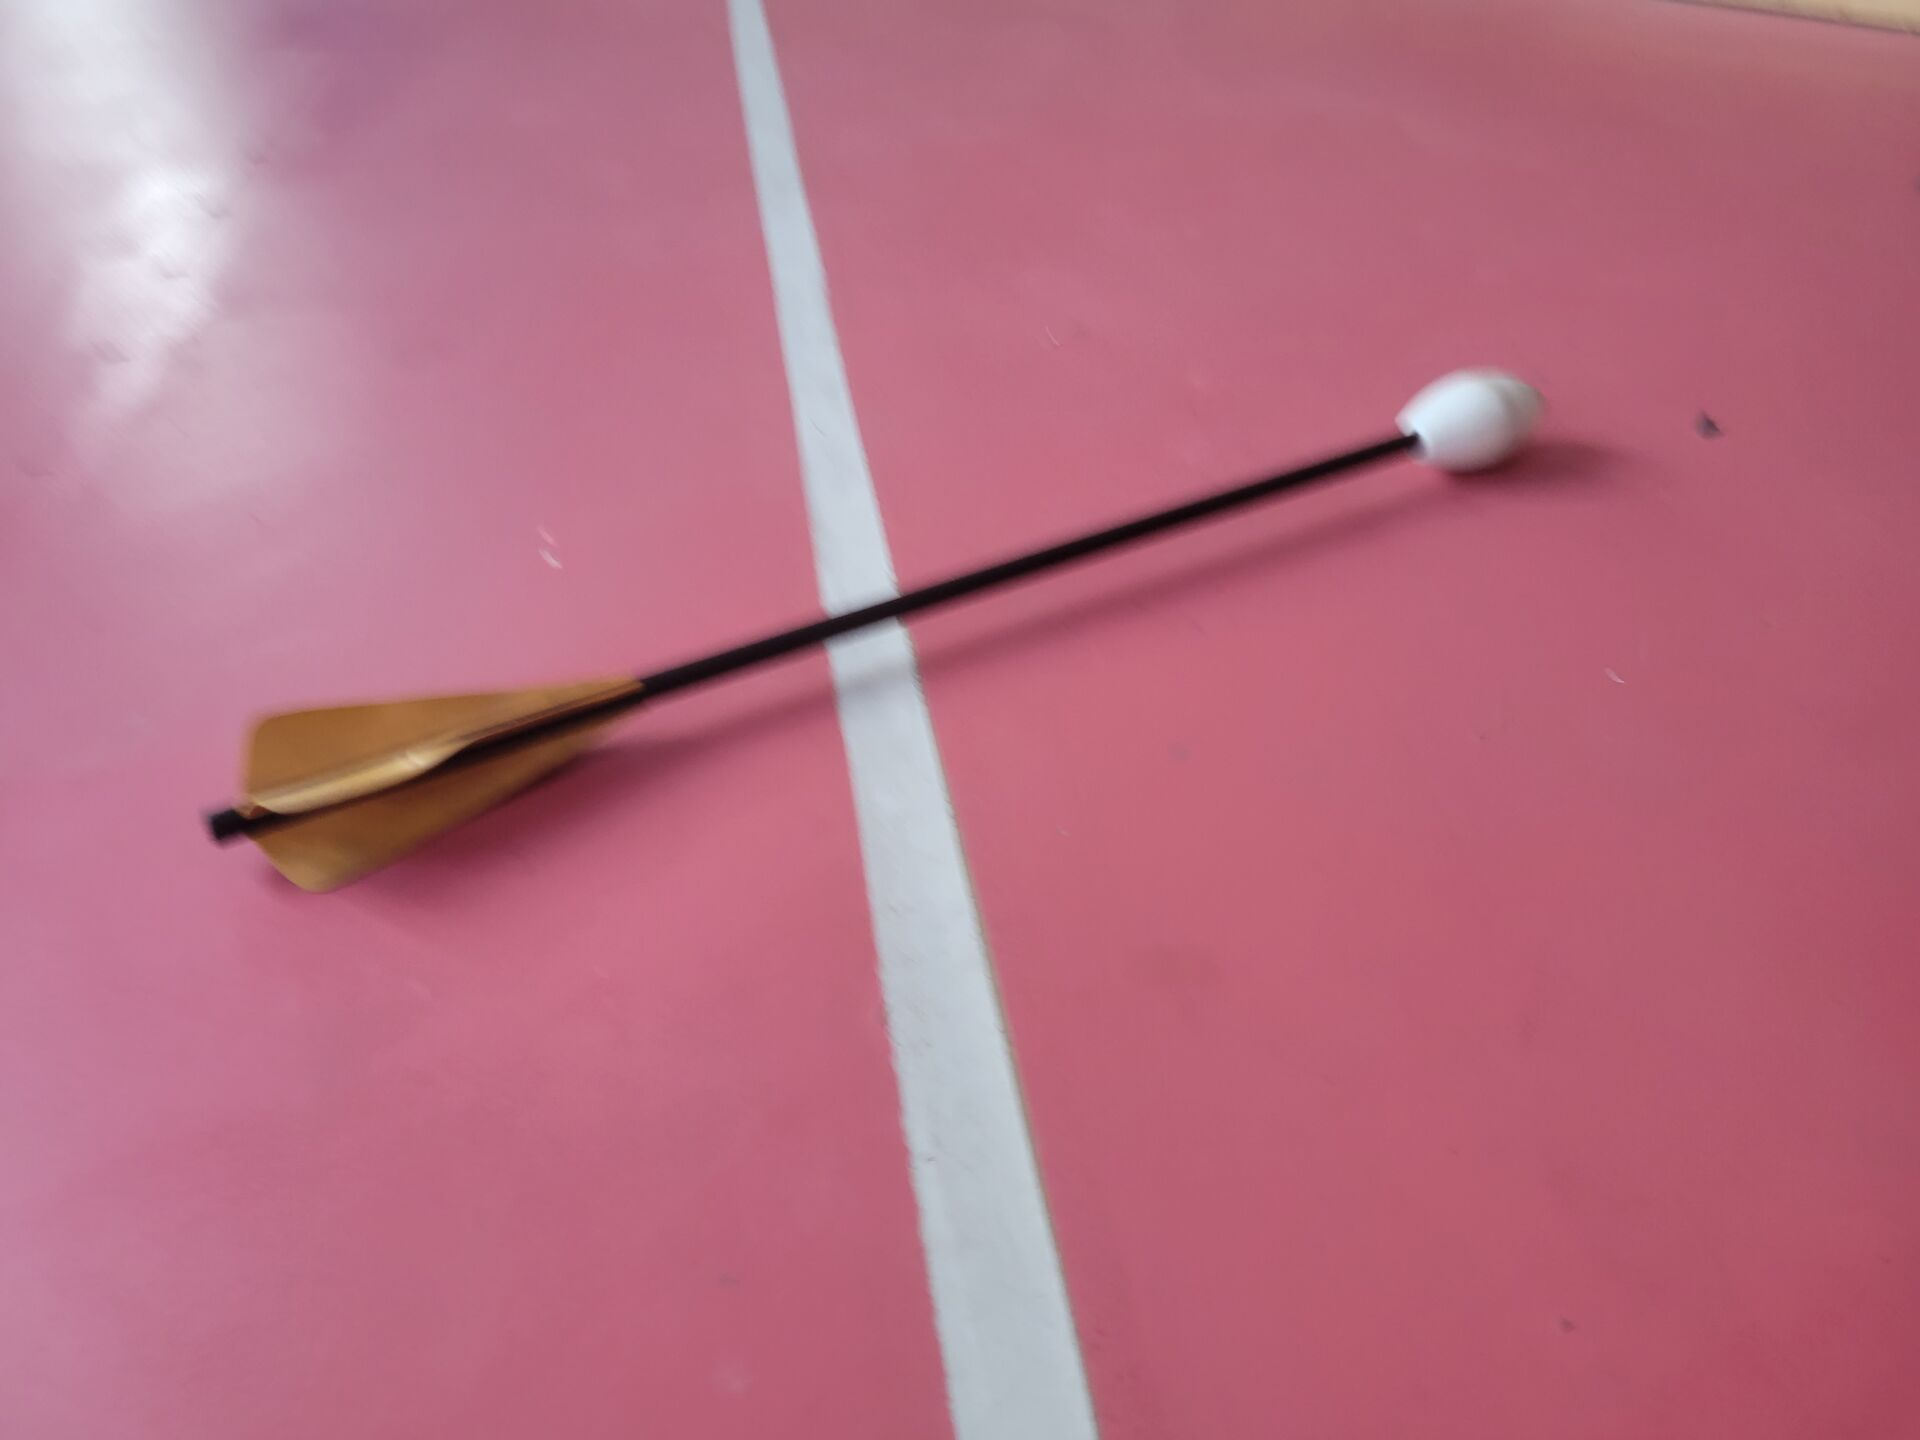arrow: (201, 366, 1553, 895)
arrowFront: (1398, 369, 1553, 470)
